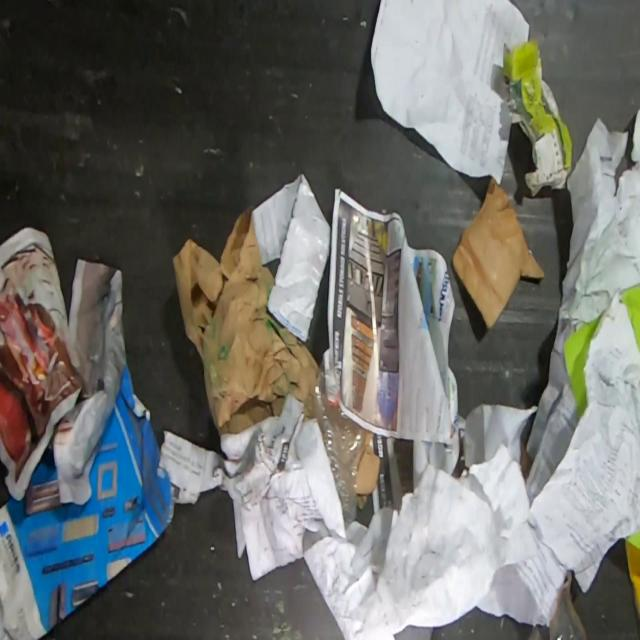cardboard: (172, 205, 319, 437), (452, 176, 544, 328), (500, 37, 572, 196), (357, 428, 380, 509)
rigid_plastic: (313, 358, 364, 531)
soft_plastic: (528, 570, 586, 640)
